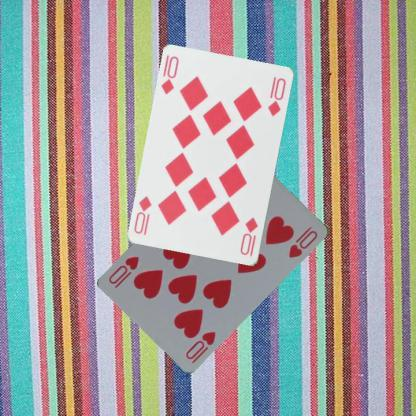10d: (238, 215, 260, 258), (158, 54, 180, 96)
10h: (183, 327, 217, 360)
